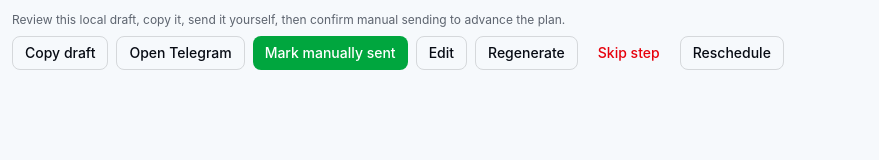
Test case: StepReviewActions › reschedules a review draft without marking the draft sent
The image size is (879, 160).
Click the button "Reschedule" at [732, 53], box [680,36,784,70]
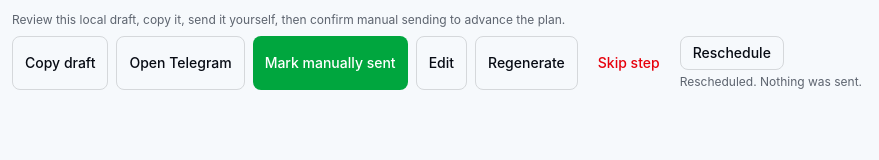
Expected: the text "Rescheduled. Nothing was sent." is shown, [680,74,862,90]
